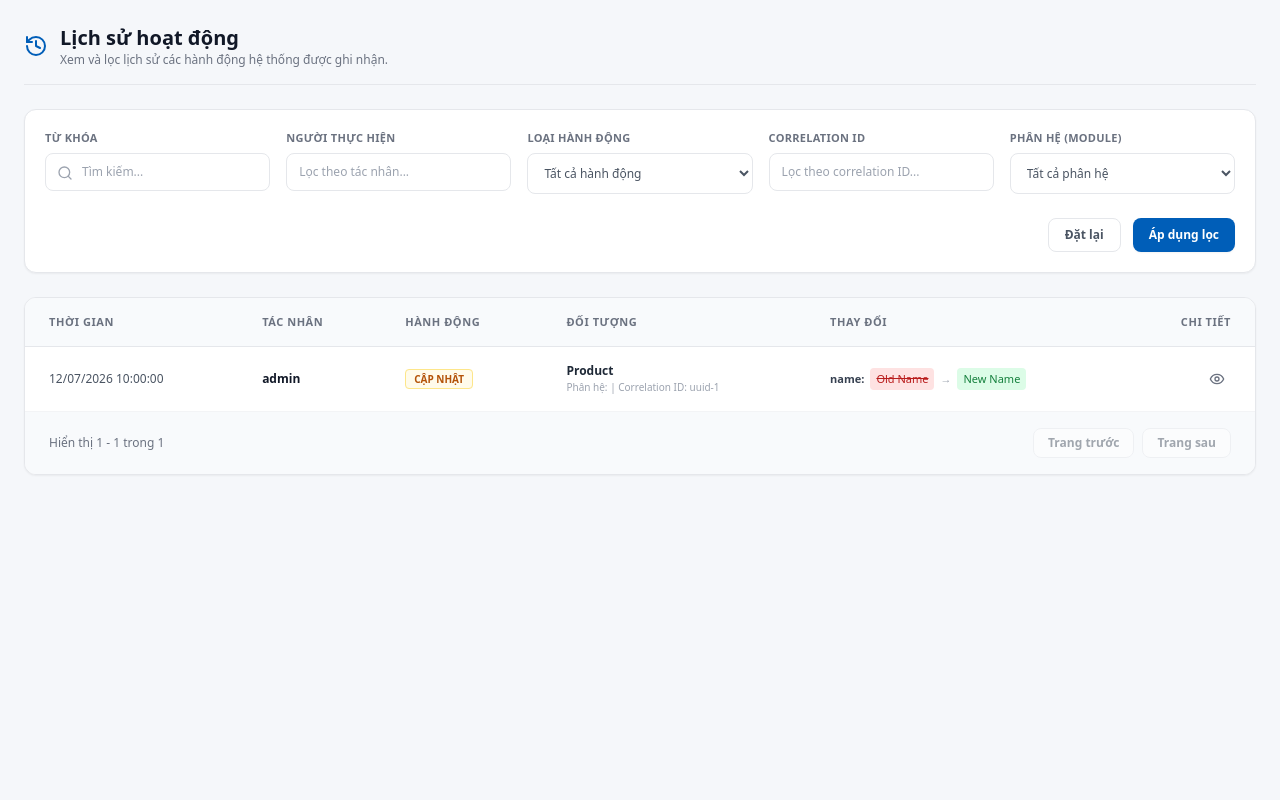
Test: Audit Log UI Component Tests › 79. Row selection opens detailed view showing raw JSON changes
The width and height of the screenshot is (1280, 800).
Click the text "admin". click: (281, 378)
box: [238,346,381,411]
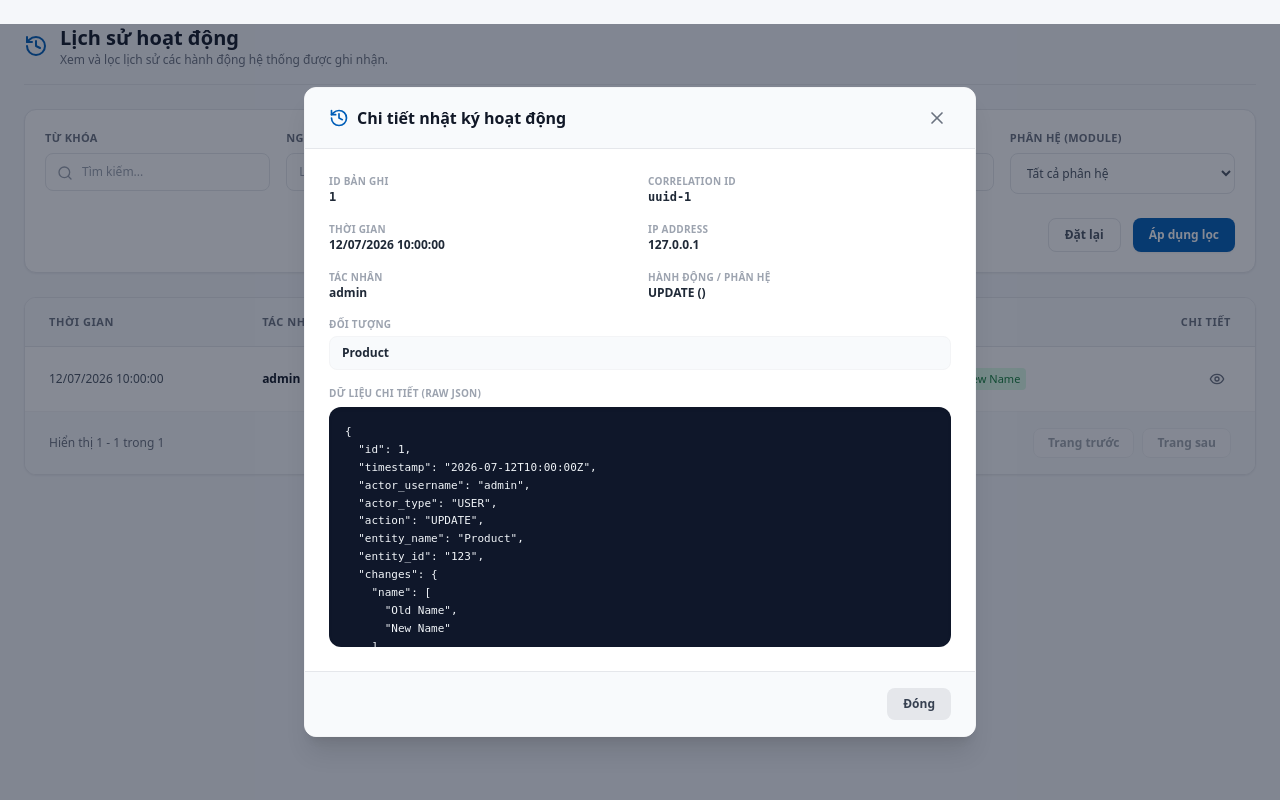
Expected: the text "\"correlation_id\": \"uuid-1\"" is shown, [345,425,597,671]
